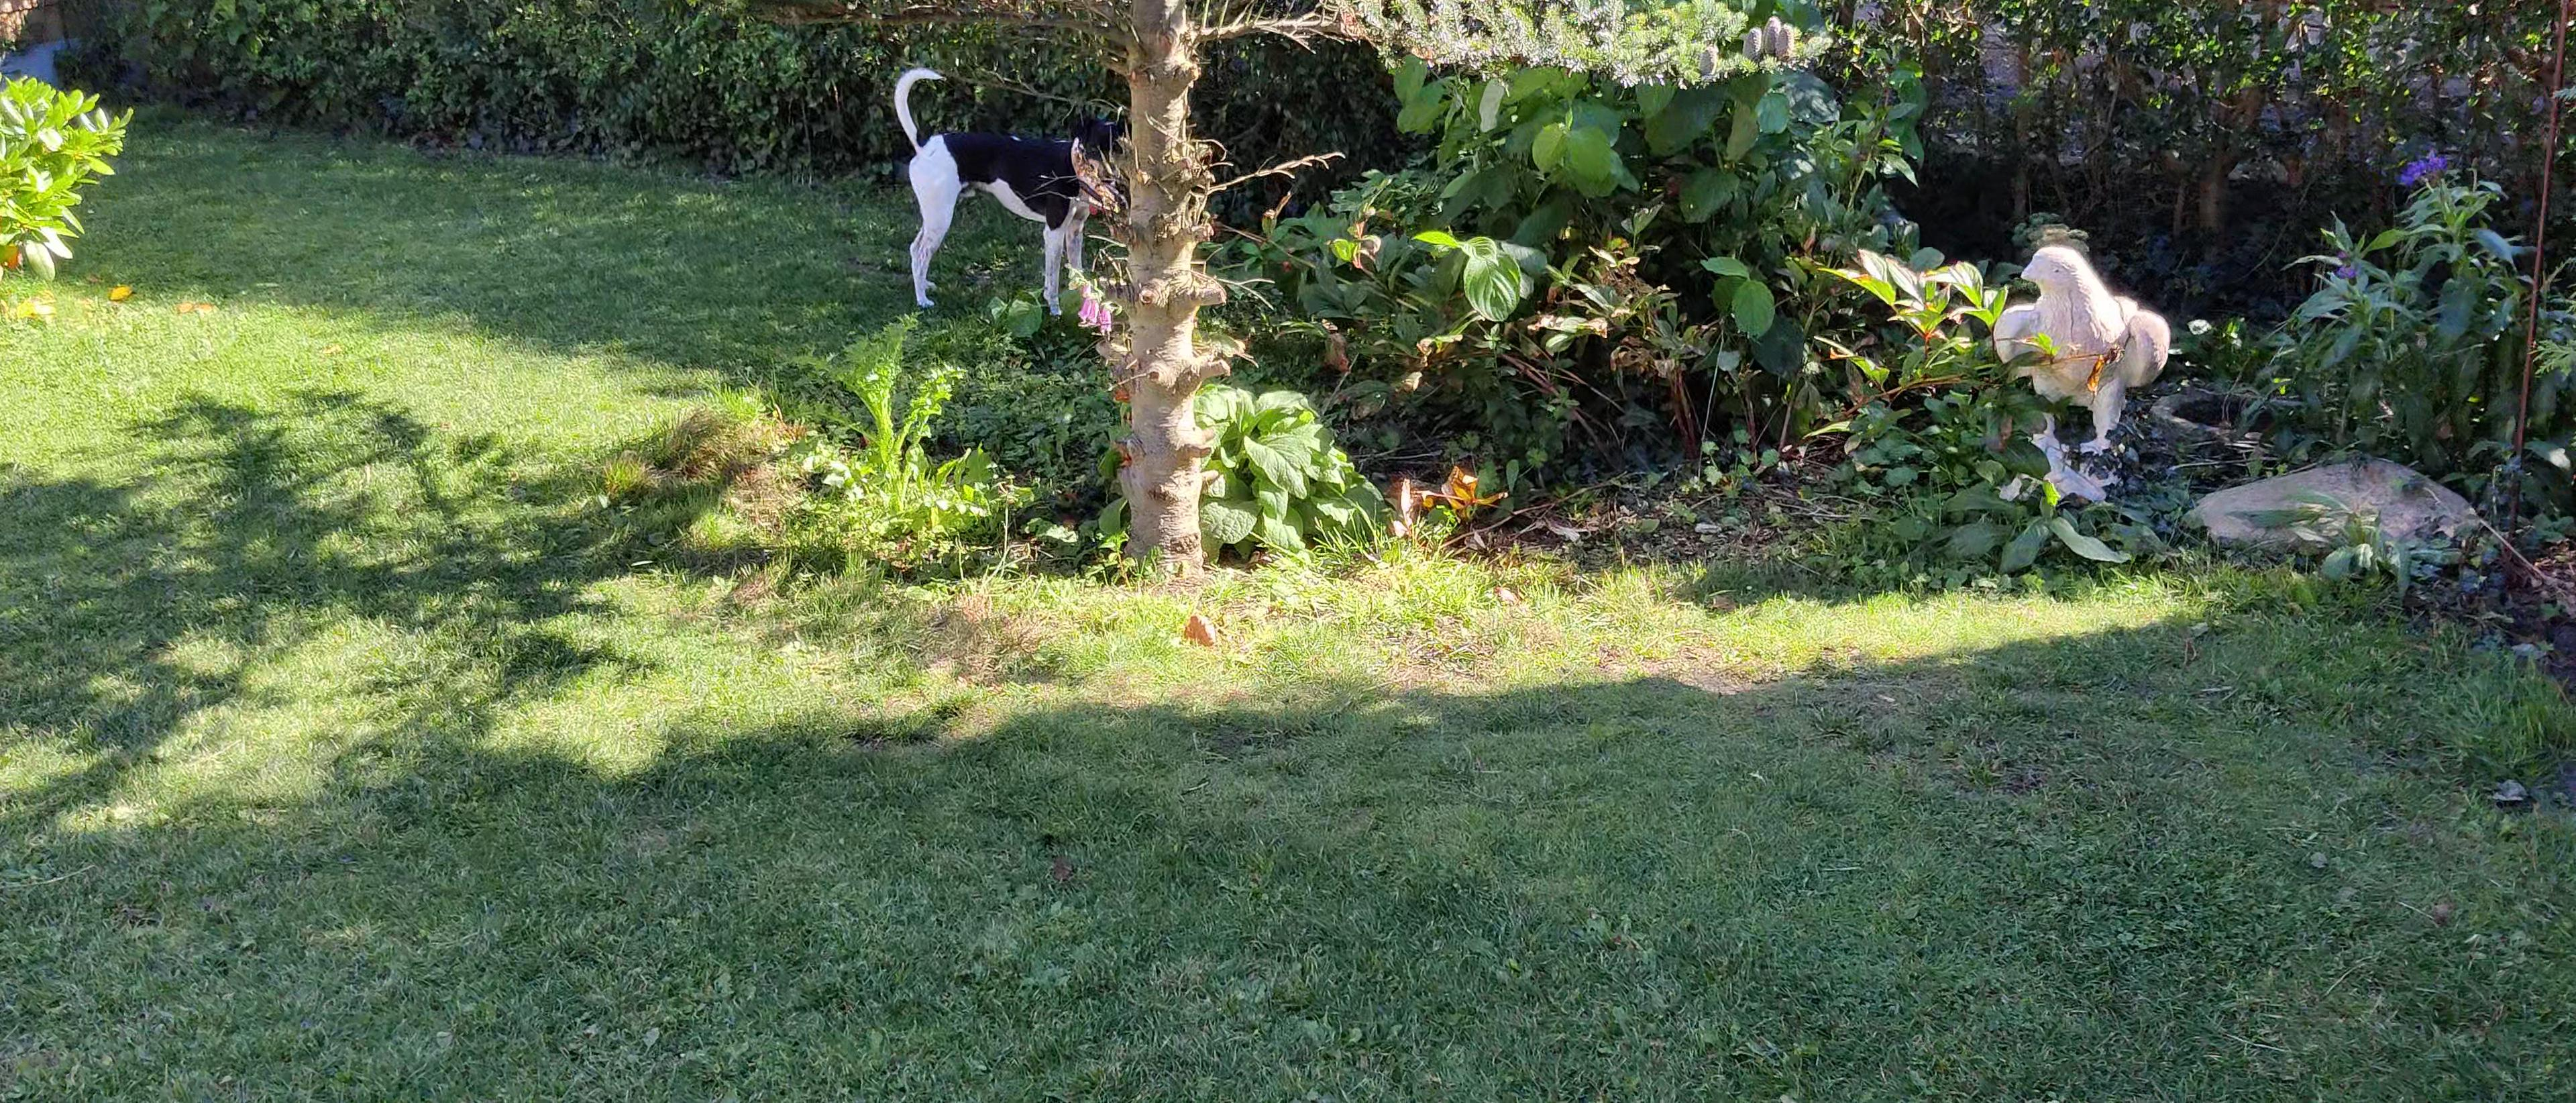Dog: (882, 62, 1132, 319)
